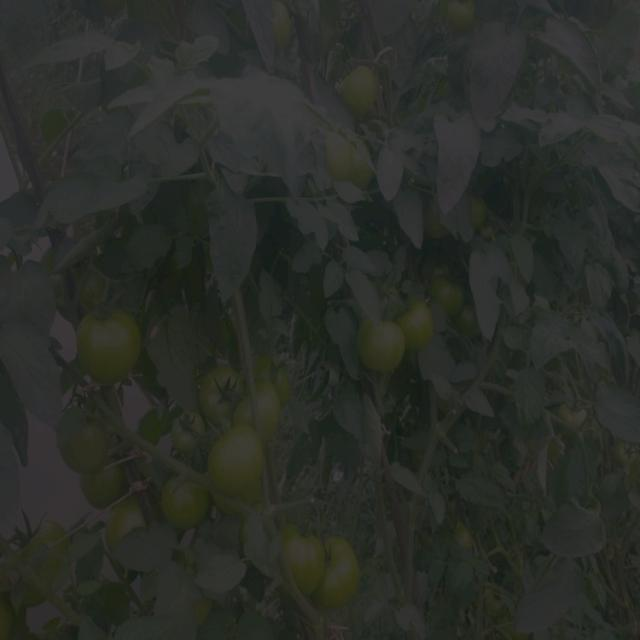tomato: (214, 356, 291, 497), (278, 525, 364, 618), (323, 122, 383, 199), (79, 311, 145, 380), (20, 526, 76, 586), (336, 62, 389, 115), (61, 408, 110, 461), (256, 6, 300, 65), (166, 470, 209, 530), (359, 320, 402, 379), (433, 1, 488, 42), (109, 510, 154, 560), (419, 191, 455, 243), (81, 469, 125, 510), (462, 191, 498, 236), (407, 301, 434, 355), (444, 518, 480, 558), (562, 397, 591, 440), (189, 588, 217, 631), (437, 269, 469, 306), (173, 411, 201, 450), (459, 313, 489, 346), (81, 272, 113, 302), (611, 439, 637, 475), (2, 597, 24, 638), (94, 1, 127, 21), (415, 527, 438, 554)
